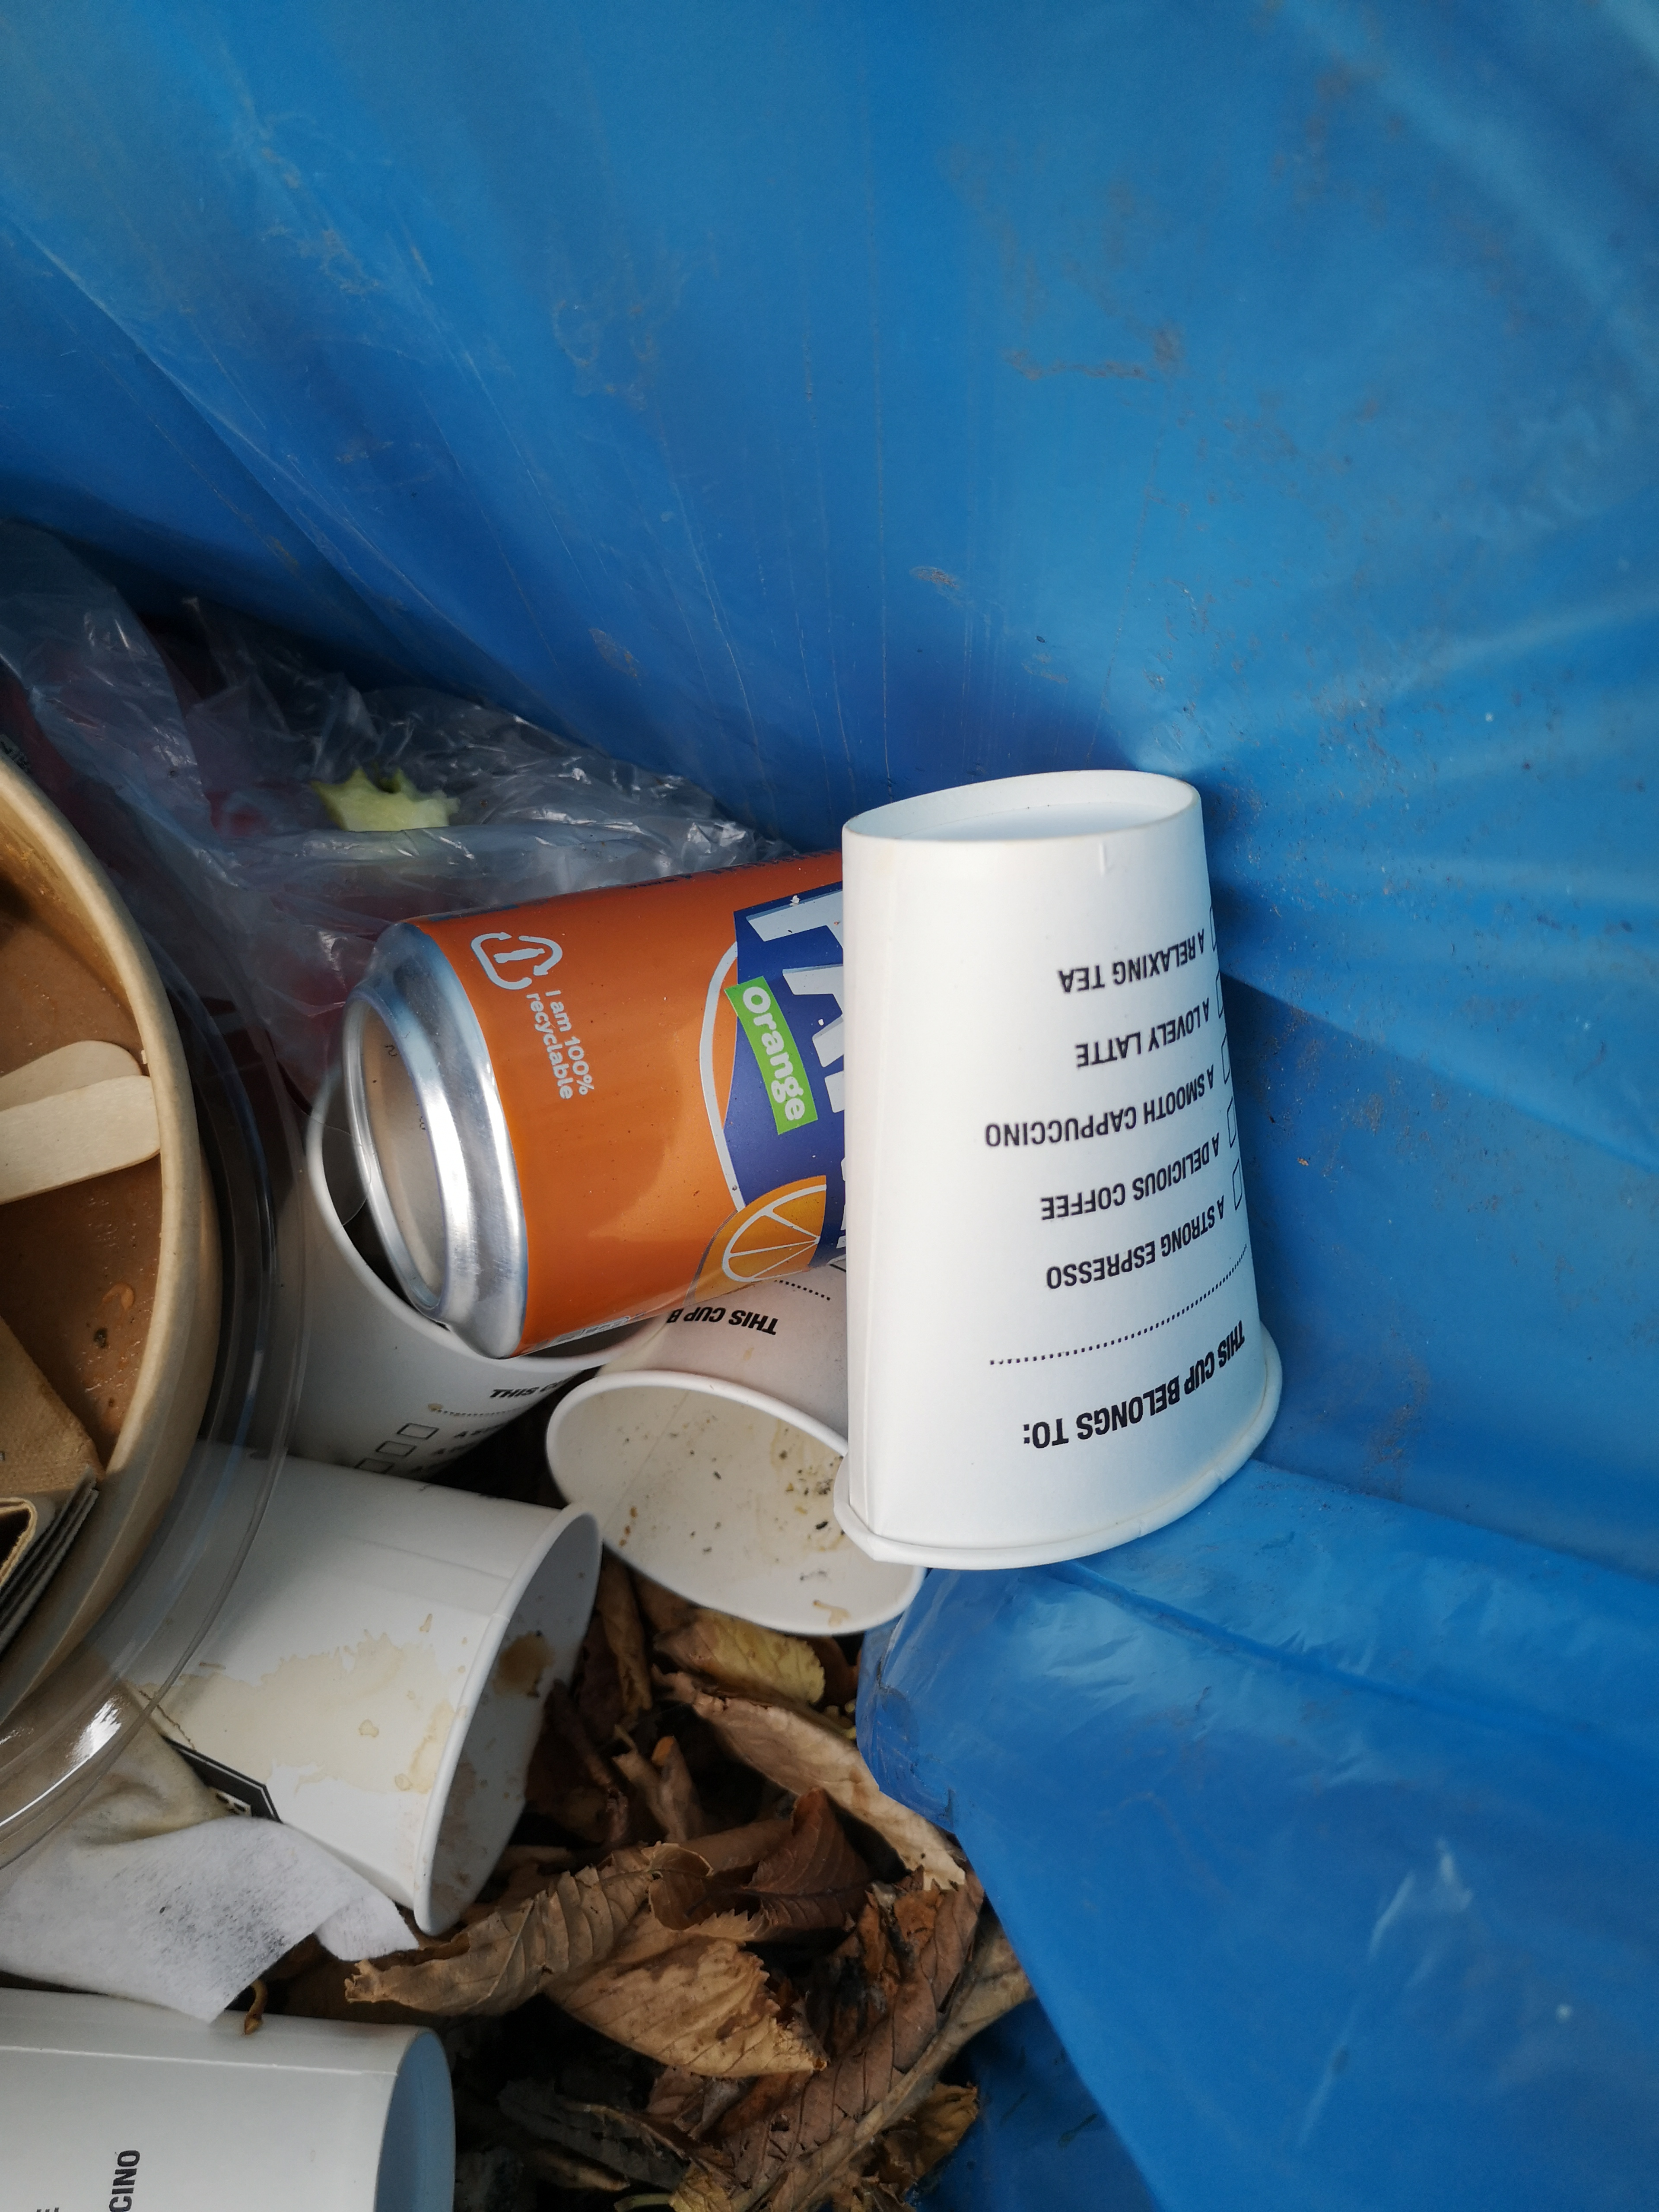can: (331, 848, 833, 1366)
cup: (817, 752, 1319, 1583), (143, 1463, 627, 1951), (537, 1315, 925, 1660)
